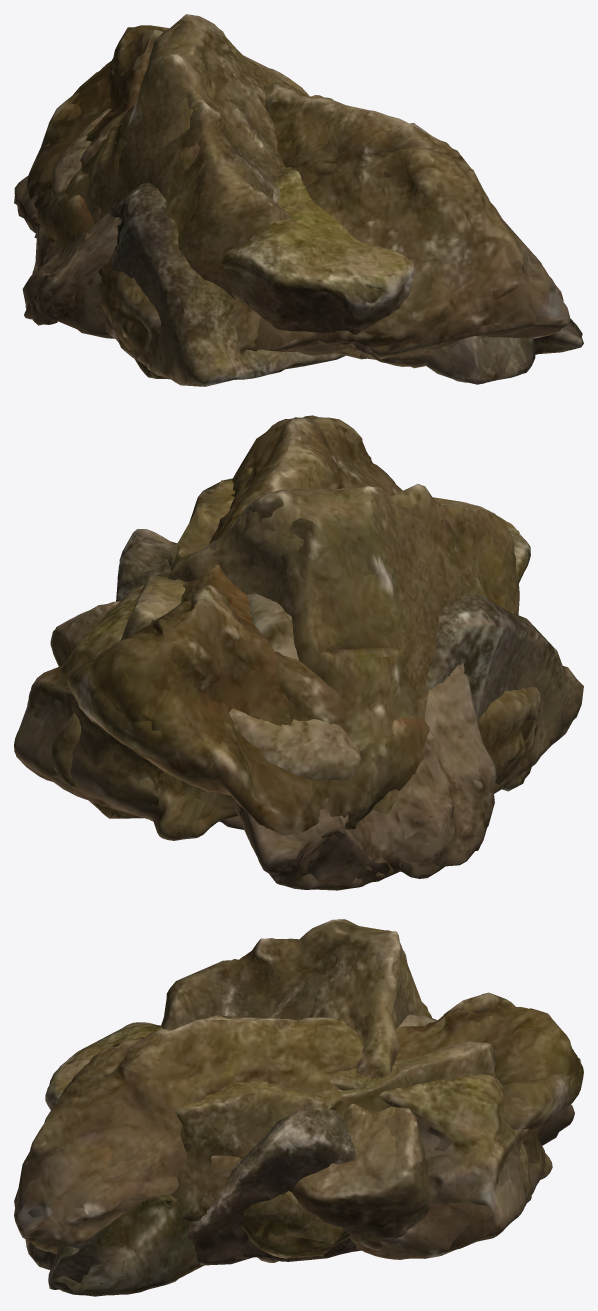
Rendered from rock_moss_set_01.glb.
3 views of the same model, one above another, from view 1: azimuth 30°, elevation 25°; view 2: azimuth 150°, elevation 25°; view 3: azimuth 270°, elevation 25° (orthographic). The views are drawn at different scales.
Parts seen in each view (by area): view 1: rock_moss_set_01_rock01, rock_moss_set_01_rock01_lo, rock_moss_set_01_rock04, rock_moss_set_01_rock05, rock_moss_set_01_rock04_lo, rock_moss_set_01_rock03, rock_moss_set_01_rock02, rock_moss_set_01_rock05_lo, rock_moss_set_01_rock02_lo, rock_moss_set_01_rock03_lo, rock_moss_set_01_rock06, rock_moss_set_01_rock06_lo; view 2: rock_moss_set_01_rock01, rock_moss_set_01_rock04_lo, rock_moss_set_01_rock04, rock_moss_set_01_rock01_lo, rock_moss_set_01_rock05, rock_moss_set_01_rock02, rock_moss_set_01_rock02_lo, rock_moss_set_01_rock03, rock_moss_set_01_rock05_lo, rock_moss_set_01_rock03_lo, rock_moss_set_01_rock06, rock_moss_set_01_rock06_lo; view 3: rock_moss_set_01_rock01, rock_moss_set_01_rock04, rock_moss_set_01_rock01_lo, rock_moss_set_01_rock05, rock_moss_set_01_rock04_lo, rock_moss_set_01_rock06, rock_moss_set_01_rock06_lo, rock_moss_set_01_rock02, rock_moss_set_01_rock05_lo, rock_moss_set_01_rock03_lo, rock_moss_set_01_rock03, rock_moss_set_01_rock02_lo.
Part boxes in pixels (x1,y1,x2,y2): rock_moss_set_01_rock01: (26,25,570,378); rock_moss_set_01_rock01_lo: (28,27,556,379); rock_moss_set_01_rock04: (54,14,324,299); rock_moss_set_01_rock05: (51,92,414,355); rock_moss_set_01_rock04_lo: (54,14,290,298); rock_moss_set_01_rock03: (105,123,431,386); rock_moss_set_01_rock02: (14,175,583,384); rock_moss_set_01_rock05_lo: (65,108,414,347); rock_moss_set_01_rock02_lo: (17,188,582,382); rock_moss_set_01_rock03_lo: (105,125,425,386); rock_moss_set_01_rock06: (244,56,435,368); rock_moss_set_01_rock06_lo: (243,55,434,366); rock_moss_set_01_rock01: (68,415,540,835); rock_moss_set_01_rock04_lo: (51,484,508,812); rock_moss_set_01_rock04: (50,484,519,814); rock_moss_set_01_rock01_lo: (75,419,539,832); rock_moss_set_01_rock05: (14,497,530,840); rock_moss_set_01_rock02: (232,593,496,890); rock_moss_set_01_rock02_lo: (234,598,495,890); rock_moss_set_01_rock03: (117,529,583,829); rock_moss_set_01_rock05_lo: (19,501,524,839); rock_moss_set_01_rock03_lo: (116,529,572,786); rock_moss_set_01_rock06: (51,478,235,818); rock_moss_set_01_rock06_lo: (52,478,232,818); rock_moss_set_01_rock01: (14,992,583,1262); rock_moss_set_01_rock04: (162,919,431,1250); rock_moss_set_01_rock01_lo: (14,993,582,1261); rock_moss_set_01_rock05: (45,1022,552,1259); rock_moss_set_01_rock04_lo: (161,919,429,1246); rock_moss_set_01_rock06: (171,1041,532,1258); rock_moss_set_01_rock06_lo: (176,1041,530,1258); rock_moss_set_01_rock02: (26,1013,574,1296); rock_moss_set_01_rock05_lo: (49,1023,546,1255); rock_moss_set_01_rock03_lo: (188,1108,360,1265); rock_moss_set_01_rock03: (189,1108,357,1265); rock_moss_set_01_rock02_lo: (25,1019,540,1296).
Bounding box in the file's own units: 2.66 × 1.77 × 3.37.
1 material, 1 textured.
